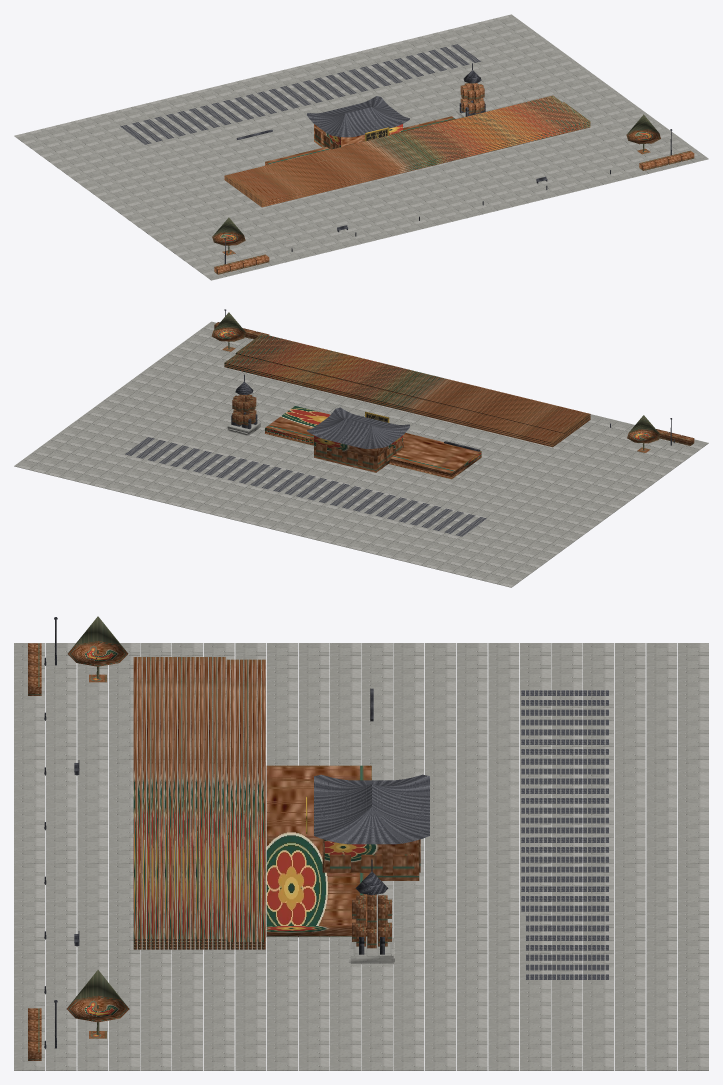
3 views of the same model, one above another, from view 1: azimuth 30°, elevation 25°; view 2: azimuth 150°, elevation 25°; view 3: azimuth 270°, elevation 25° (orthographic). The views are drawn at different scales.
Parts seen in each view (by area): view 1: 11680_01_06305_028_01__plinth_ground_base, 11680_01_06305_028_02__mass_body_facade, 11680_01_06305_028_03__roof_deck_structure, 11680_01_06305_028_06__landscape_greenery, 11680_01_06305_028_05__window_sash_glass; view 2: 11680_01_06305_028_01__plinth_ground_base, 11680_01_06305_028_02__mass_body_facade, 11680_01_06305_028_03__roof_deck_structure, 11680_01_06305_028_06__landscape_greenery, 11680_01_06305_028_05__window_sash_glass; view 3: 11680_01_06305_028_01__plinth_ground_base, 11680_01_06305_028_02__mass_body_facade, 11680_01_06305_028_03__roof_deck_structure, 11680_01_06305_028_06__landscape_greenery, 11680_01_06305_028_05__window_sash_glass, 11680_01_06305_028_05__door_hardware_iron.
Boxes of the visible parts, x1,y1,x2,y2 form: 11680_01_06305_028_01__plinth_ground_base: [14, 14, 708, 280]; 11680_01_06305_028_02__mass_body_facade: [224, 95, 590, 207]; 11680_01_06305_028_03__roof_deck_structure: [120, 44, 480, 144]; 11680_01_06305_028_06__landscape_greenery: [212, 114, 694, 274]; 11680_01_06305_028_05__window_sash_glass: [343, 83, 484, 146]; 11680_01_06305_028_01__plinth_ground_base: [14, 321, 708, 587]; 11680_01_06305_028_02__mass_body_facade: [224, 334, 590, 479]; 11680_01_06305_028_03__roof_deck_structure: [125, 407, 486, 536]; 11680_01_06305_028_06__landscape_greenery: [211, 312, 694, 452]; 11680_01_06305_028_05__window_sash_glass: [232, 394, 256, 425]; 11680_01_06305_028_01__plinth_ground_base: [14, 643, 708, 1070]; 11680_01_06305_028_02__mass_body_facade: [133, 657, 420, 949]; 11680_01_06305_028_03__roof_deck_structure: [314, 690, 608, 979]; 11680_01_06305_028_06__landscape_greenery: [28, 616, 129, 1060]; 11680_01_06305_028_05__window_sash_glass: [322, 839, 391, 948]; 11680_01_06305_028_05__door_hardware_iron: [44, 617, 384, 1049].
Bounding box in the file's own units: 95.95 × 10 × 65.95.
Materials: 7 (7 with a texture image).
